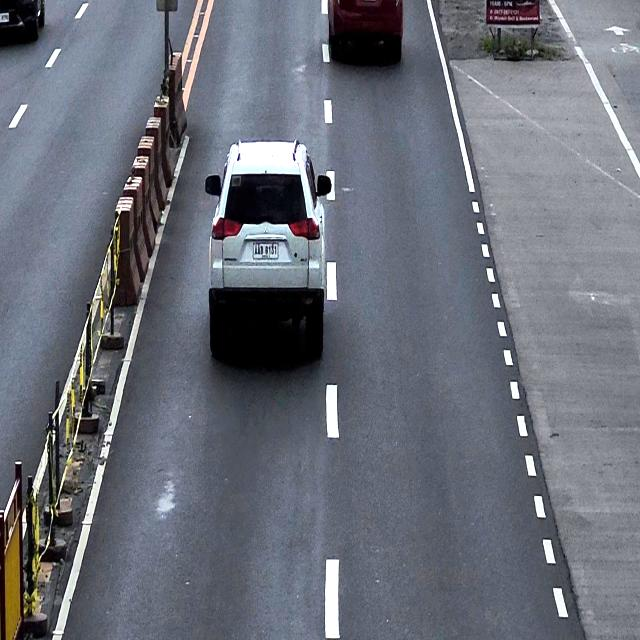Car: (205, 138, 331, 361), (328, 0, 403, 64), (0, 0, 46, 49)
License-Plate: (251, 240, 279, 260), (0, 13, 11, 22)
